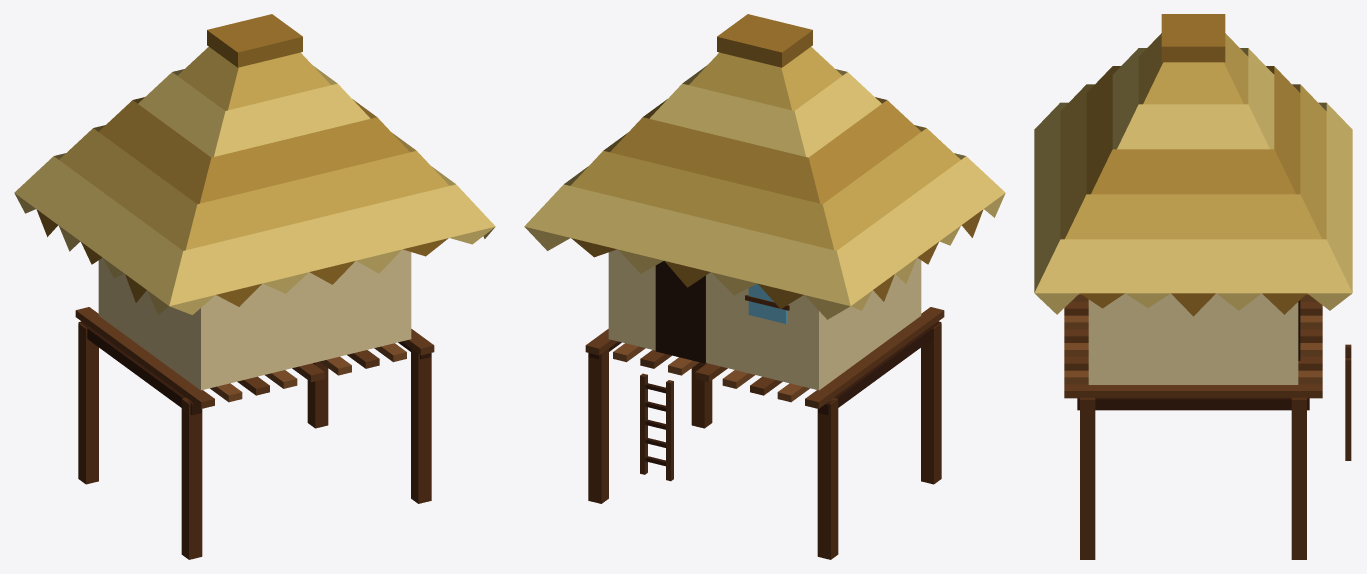
The model's file is hut.glb.
The picture shows the model from 3 angles, left to right: view 1: azimuth 30°, elevation 25°; view 2: azimuth 150°, elevation 25°; view 3: azimuth 270°, elevation 25°; orthographic projection. The views are drawn at different scales.
Parts seen in each view (by area): view 1: hut; view 2: hut; view 3: hut.
Part boxes in pixels (x1,y1,x2,y2): hut: (14,14,495,559); hut: (524,14,1005,559); hut: (1034,14,1352,559).
Bounding box in the file's own units: 4.5 × 6.01 × 3.7.
